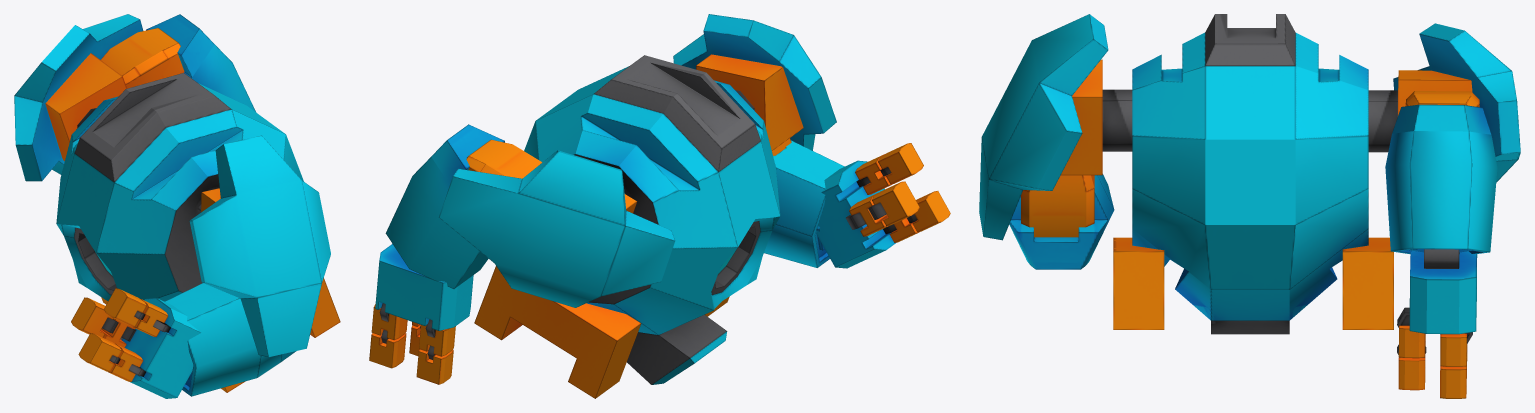
Rendered from Body_Running36.obj.
3 renders of one model, left to right at view 1: azimuth 30°, elevation 25°; view 2: azimuth 150°, elevation 25°; view 3: azimuth 270°, elevation 25°, orthographic. The views are drawn at different scales.
Visible parts, largest first — view 1: Plane001, Object006, Object002, Object008, Object007, Object003; view 2: Plane001, Object002, Object006, Object008, Object004, Object003, Object007; view 3: Plane001, Object006, Object003, Object004, Object002, Object007, Object005, Object001.
Boxes of the visible parts, <box> form: Plane001: <box>56,73,340,392</box>; Object006: <box>189,135,330,357</box>; Object002: <box>14,14,184,181</box>; Object008: <box>71,288,200,398</box>; Object007: <box>165,283,296,396</box>; Object003: <box>146,14,256,112</box>; Plane001: <box>474,55,780,398</box>; Object002: <box>439,139,675,307</box>; Object006: <box>673,14,836,155</box>; Object008: <box>816,143,950,268</box>; Object004: <box>369,244,473,384</box>; Object003: <box>385,124,504,288</box>; Object007: <box>764,140,844,267</box>; Plane001: <box>1113,14,1393,334</box>; Object006: <box>979,14,1108,240</box>; Object003: <box>1385,104,1497,254</box>; Object004: <box>1397,249,1477,398</box>; Object002: <box>1393,23,1520,182</box>; Object007: <box>1009,174,1114,269</box>; Object005: <box>1102,89,1132,151</box>; Object001: <box>1368,90,1397,152</box>.
Bounding box in the file's own units: 156 × 117 × 182.
